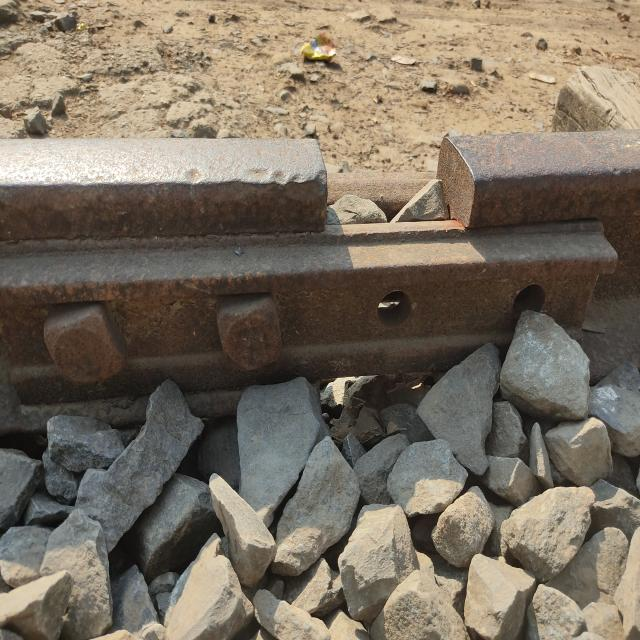Faults: (299, 132, 491, 248), (372, 280, 418, 346), (510, 275, 552, 314)
